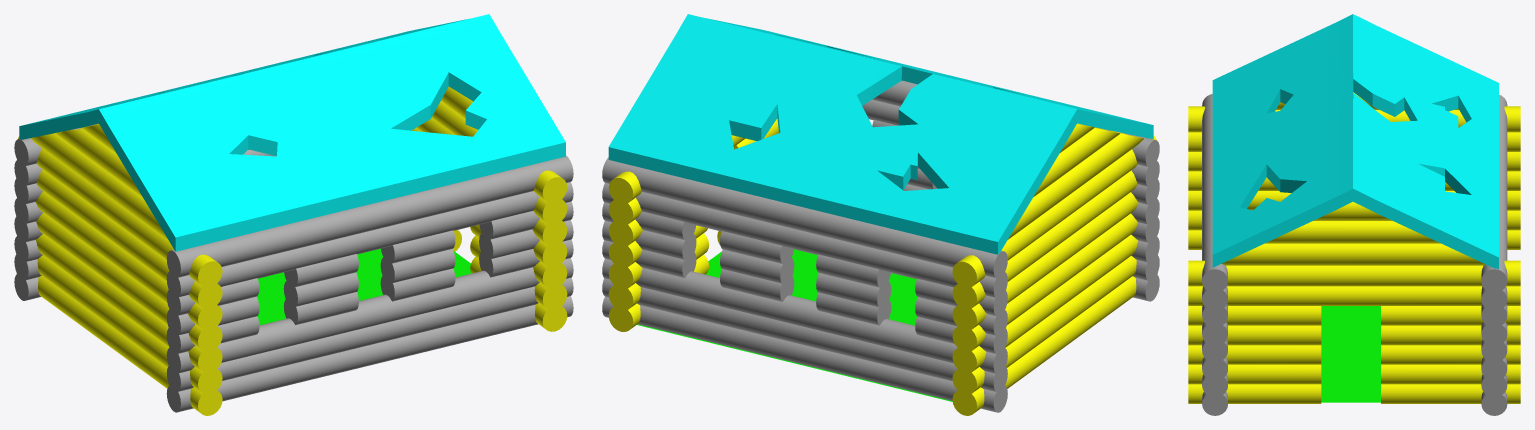
Rendered from cabin.fbx.
The picture shows the model from 3 angles, left to right: view 1: azimuth 30°, elevation 25°; view 2: azimuth 150°, elevation 25°; view 3: azimuth 270°, elevation 25°; orthographic projection. The views are drawn at different scales.
Visible parts, largest first — view 1: pPlane3, sidewalls, frontwalls, floor; view 2: pPlane3, sidewalls, frontwalls, floor; view 3: pPlane3, frontwalls, sidewalls, floor.
Part boxes in pixels (bbox=[...]): pPlane3: bbox=[19, 14, 565, 251]; sidewalls: bbox=[14, 124, 573, 412]; frontwalls: bbox=[16, 86, 567, 415]; floor: bbox=[257, 248, 470, 325]; pPlane3: bbox=[608, 14, 1153, 254]; sidewalls: bbox=[602, 80, 1159, 412]; frontwalls: bbox=[608, 118, 1157, 415]; floor: bbox=[637, 249, 952, 401]; pPlane3: bbox=[1212, 14, 1498, 268]; frontwalls: bbox=[1188, 92, 1520, 403]; sidewalls: bbox=[1202, 94, 1507, 415]; floor: bbox=[1321, 306, 1380, 402].
Bounding box in the file's own units: 9.55 × 5.75 × 7.64.
